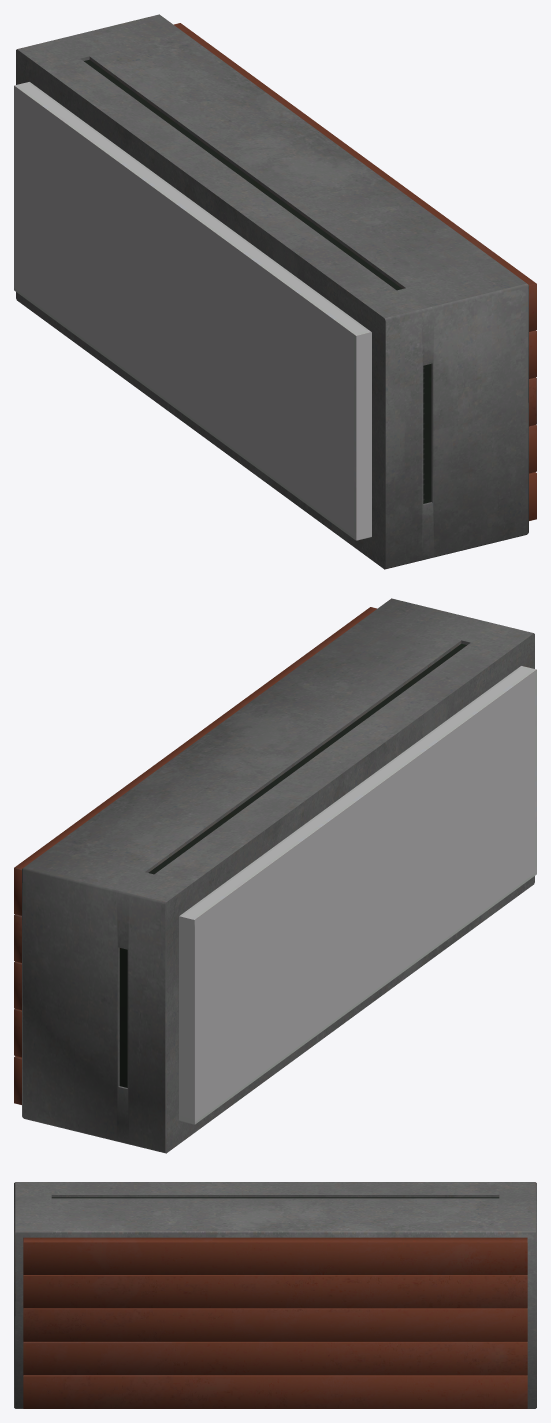
File: cP_Bench20.dae
3 renders of one model, top to bottom at view 1: azimuth 30°, elevation 25°; view 2: azimuth 150°, elevation 25°; view 3: azimuth 270°, elevation 25°, orthographic. The views are drawn at different scales.
Parts seen in each view (by area): view 1: cP_Bench20.001; view 2: cP_Bench20.001; view 3: cP_Bench20.001.
Boxes of the visible parts, box(x1,y1,x2,y2) form: cP_Bench20.001: box(14, 14, 536, 569); cP_Bench20.001: box(14, 598, 536, 1153); cP_Bench20.001: box(14, 1182, 536, 1408).
Size of the model in its own units: 0.543 by 2 by 0.75.
